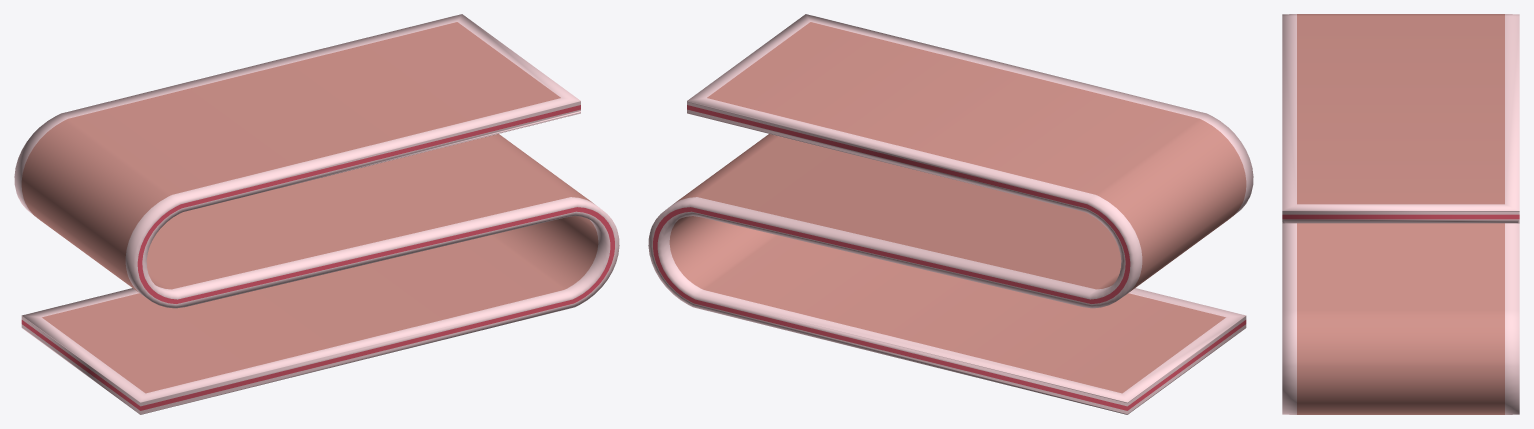
File: Table.fbx
3 views of the same model, side by side, from view 1: azimuth 30°, elevation 25°; view 2: azimuth 150°, elevation 25°; view 3: azimuth 270°, elevation 25° (orthographic).
Parts seen in each view (by area): view 1: Table; view 2: Table; view 3: Table.
Boxes of the visible parts, <box> form: Table: <box>14,14,619,414</box>; Table: <box>648,14,1253,414</box>; Table: <box>1282,14,1519,414</box>.
Size of the model in its own units: 0.8872 by 0.3614 by 0.3749.
Materials: 1 (1 with a texture image).
